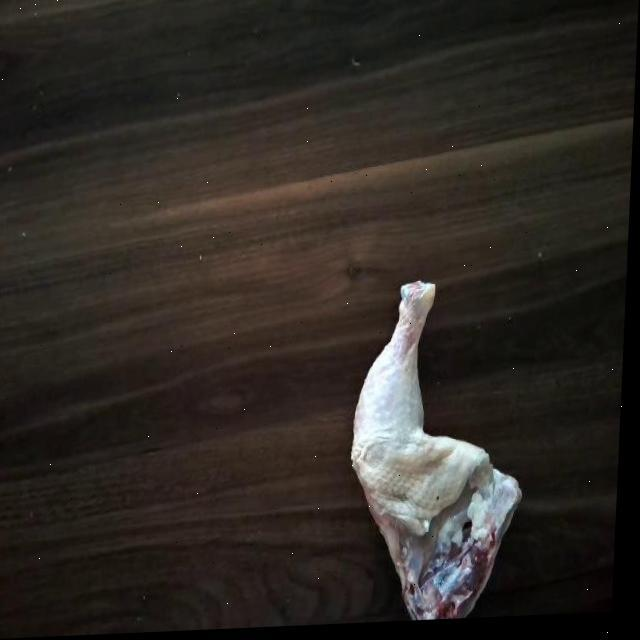quater: (364, 271, 545, 617)
